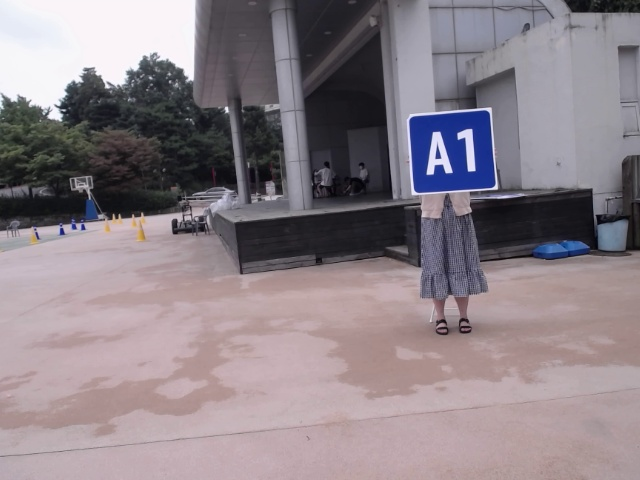delivery_a1: (409, 109, 498, 195)
